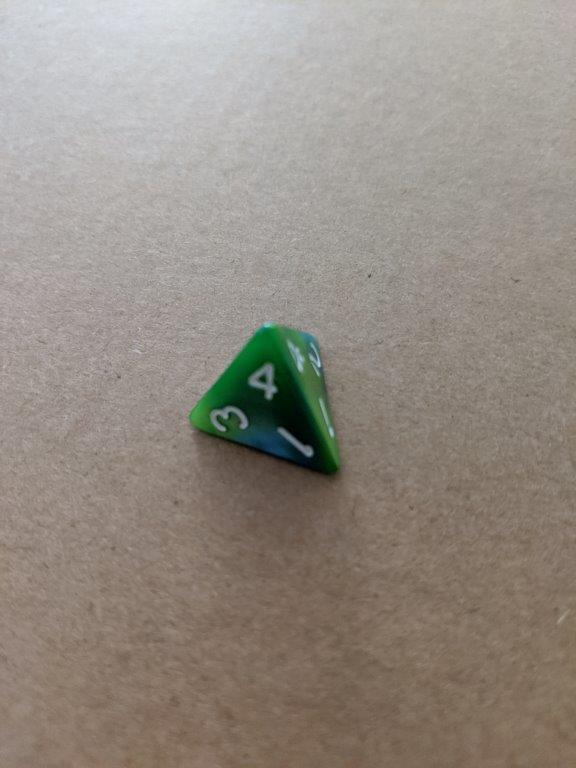d4-4: (187, 323, 347, 478)
